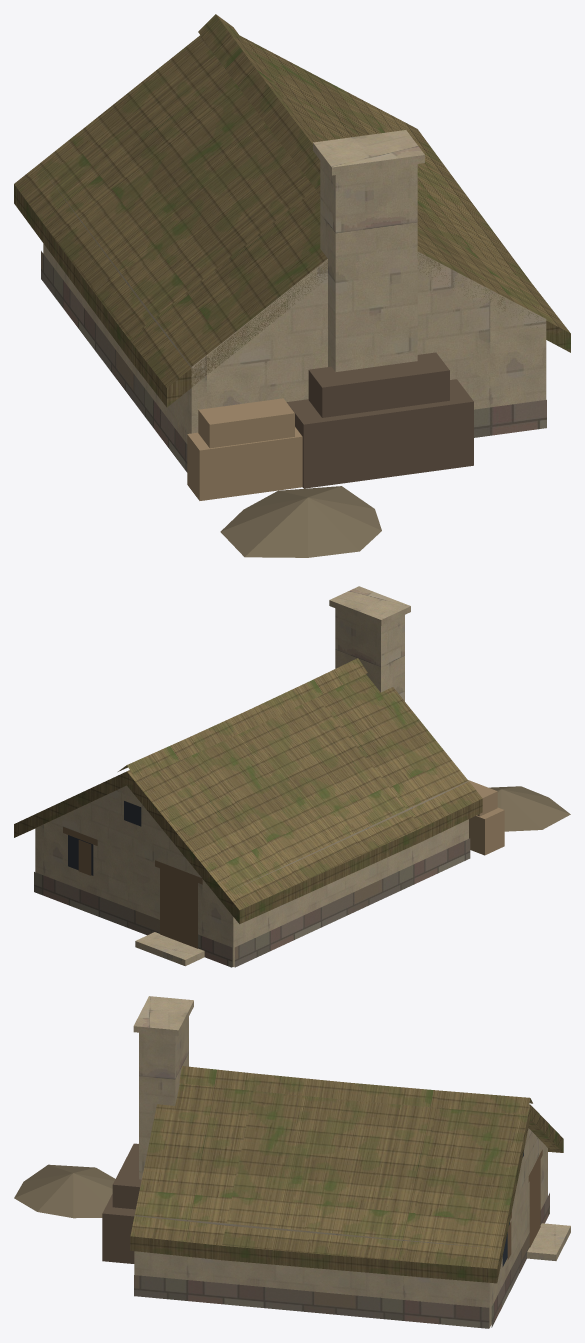
3 views of the same model, one above another, from view 1: azimuth 30°, elevation 25°; view 2: azimuth 150°, elevation 25°; view 3: azimuth 270°, elevation 25° (orthographic). The views are drawn at different scales.
Visible parts, largest first — view 1: b001080_thatch, b001080_wall, b001080_peat, b001080_wood, b001080_dung, b001080_base; view 2: b001080_thatch, b001080_wall, b001080_base, b001080_oak, b001080_dung, b001080_wood, b001080_glass; view 3: b001080_thatch, b001080_wall, b001080_base, b001080_dung, b001080_peat, b001080_oak.
Boxes of the visible parts, x1=… form: b001080_thatch: x1=14, y1=14, x2=570, y2=407; b001080_wall: x1=43, y1=130, x2=546, y2=443; b001080_peat: x1=287, y1=352, x2=473, y2=488; b001080_wood: x1=187, y1=398, x2=302, y2=500; b001080_dung: x1=220, y1=486, x2=381, y2=557; b001080_base: x1=41, y1=251, x2=546, y2=472; b001080_thatch: x1=14, y1=658, x2=482, y2=924; b001080_wall: x1=35, y1=586, x2=468, y2=966; b001080_base: x1=34, y1=838, x2=470, y2=967; b001080_oak: x1=63, y1=827, x2=202, y2=948; b001080_dung: x1=489, y1=786, x2=570, y2=831; b001080_wood: x1=468, y1=780, x2=504, y2=855; b001080_glass: x1=68, y1=801, x2=141, y2=875; b001080_thatch: x1=130, y1=1066, x2=563, y2=1283; b001080_wall: x1=133, y1=996, x2=570, y2=1327; b001080_base: x1=134, y1=1193, x2=549, y2=1328; b001080_dung: x1=14, y1=1164, x2=115, y2=1218; b001080_peat: x1=102, y1=1143, x2=141, y2=1263; b001080_oak: x1=507, y1=1149, x2=542, y2=1260.
Size of the model in its own units: 7.36 by 4.48 by 10.05.
8 materials, 3 textured.
